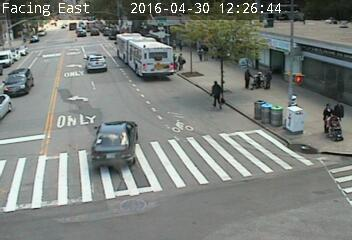neg: (172, 124, 204, 167), (76, 95, 106, 134), (6, 83, 36, 122), (273, 171, 297, 204), (132, 132, 155, 161), (132, 48, 151, 73), (92, 44, 110, 68), (143, 192, 160, 215), (230, 158, 246, 180), (61, 52, 77, 73), (48, 167, 64, 188)
pos: (201, 76, 227, 110), (317, 102, 336, 128), (239, 65, 256, 88), (333, 98, 349, 119), (252, 68, 267, 88), (194, 42, 209, 62), (263, 71, 276, 88), (175, 51, 187, 67)
